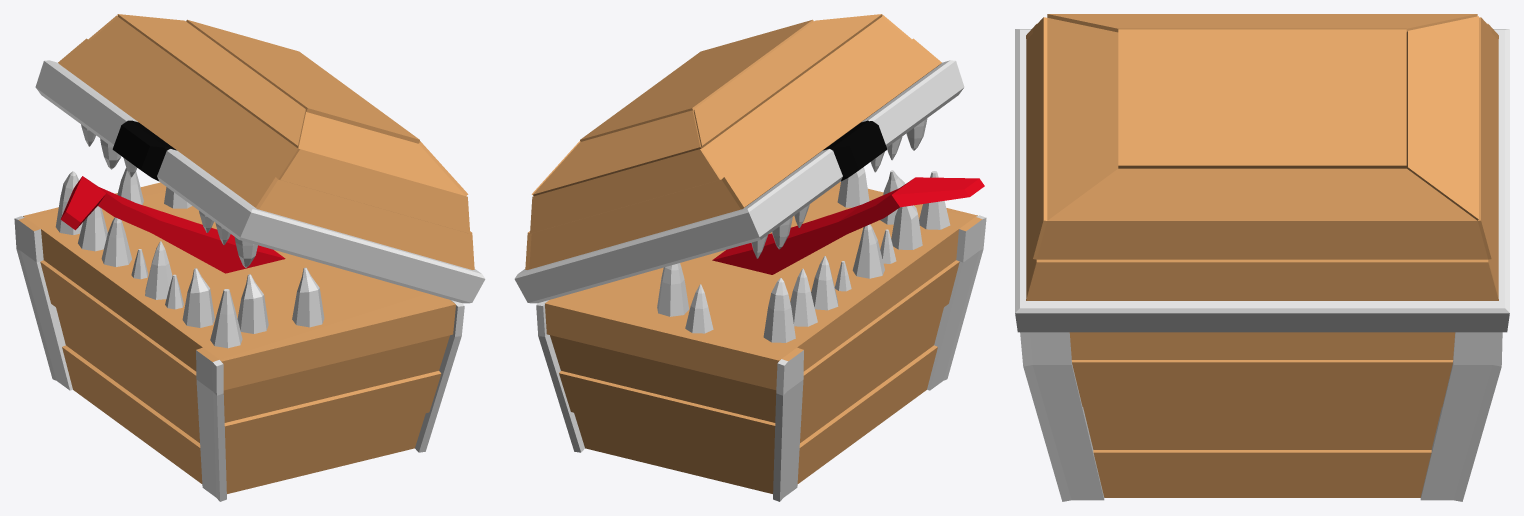
The model's file is mimic.fbx.
3 renders of one model, left to right at view 1: azimuth 30°, elevation 25°; view 2: azimuth 150°, elevation 25°; view 3: azimuth 270°, elevation 25°, orthographic. The views are drawn at different scales.
Parts seen in each view (by area): view 1: Bottom, Bottom.001, Cube.002, Tongue; view 2: Bottom, Bottom.001, Cube.002, Tongue; view 3: Bottom.001, Bottom, Cube.002.
Part boxes in pixels (left/top/right/bottom): Bottom: left=19, top=168, right=455, bottom=493; Bottom.001: left=35, top=14, right=485, bottom=303; Cube.002: left=14, top=216, right=464, bottom=501; Tongue: left=60, top=176, right=285, bottom=273; Bottom: left=545, top=167, right=982, bottom=493; Bottom.001: left=514, top=14, right=964, bottom=303; Cube.002: left=536, top=215, right=986, bottom=501; Tongue: left=712, top=177, right=984, bottom=274; Bottom.001: left=1015, top=14, right=1509, bottom=332; Bottom: left=1069, top=332, right=1455, bottom=497; Cube.002: left=1020, top=332, right=1502, bottom=501.
Size of the model in its own units: 4.83 by 5.15 by 4.79.
